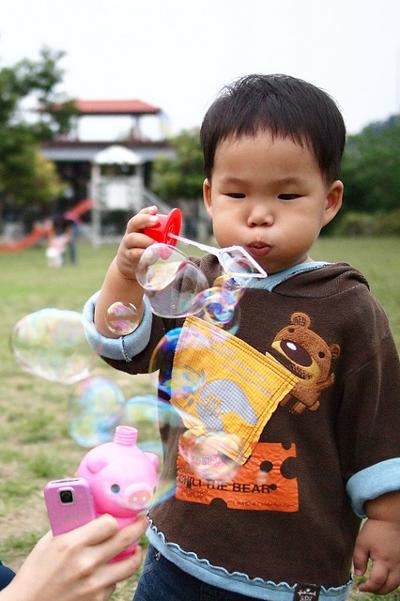person: (82, 75, 400, 601)
